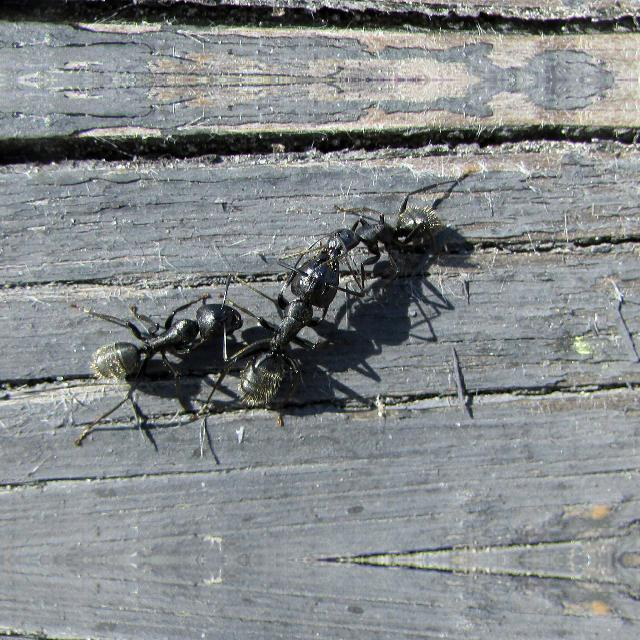Camponotus: (229, 238, 357, 422), (80, 274, 252, 410), (324, 177, 444, 266)
